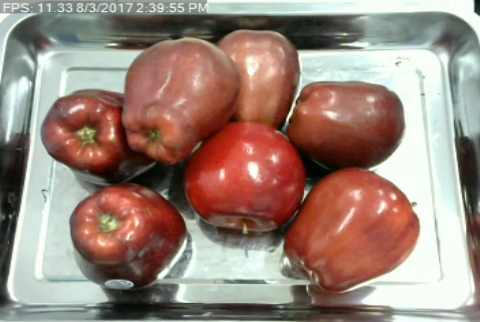Apple: (280, 163, 424, 295), (121, 34, 243, 165), (181, 118, 307, 237), (66, 180, 191, 291), (40, 85, 161, 182), (287, 77, 407, 171), (214, 25, 303, 128)
